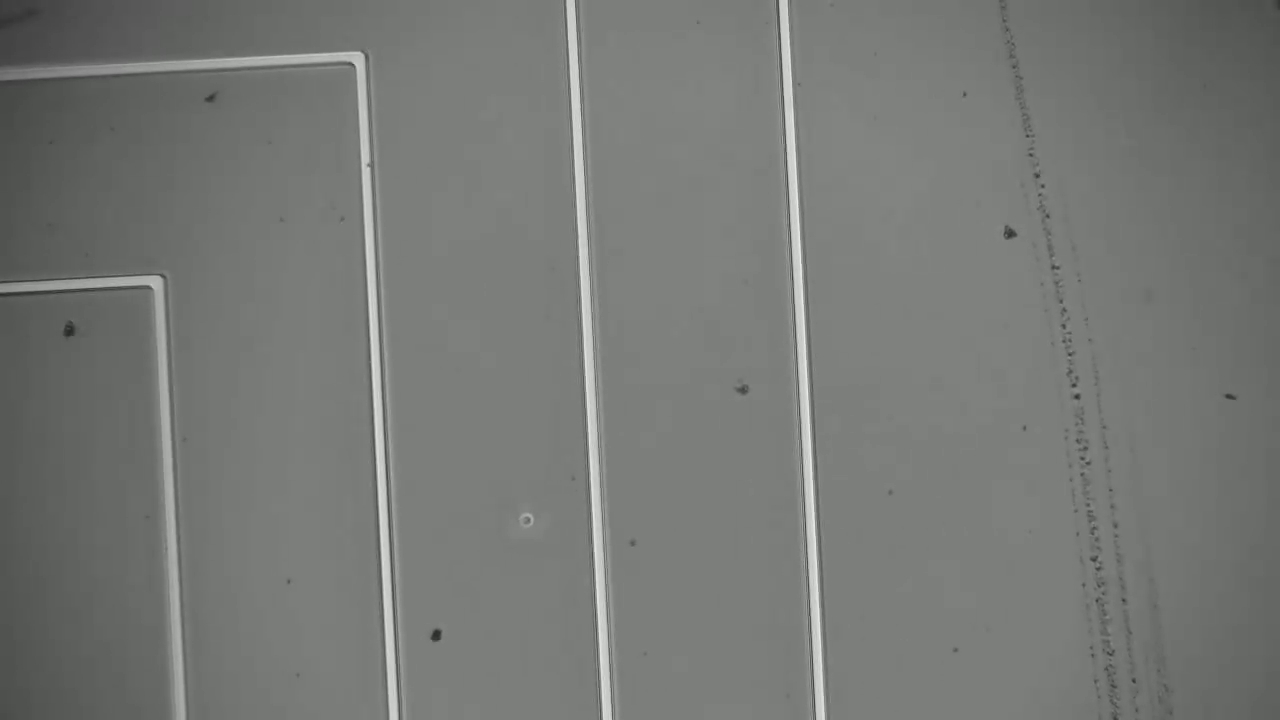scratch: (1000, 11, 1193, 720)
